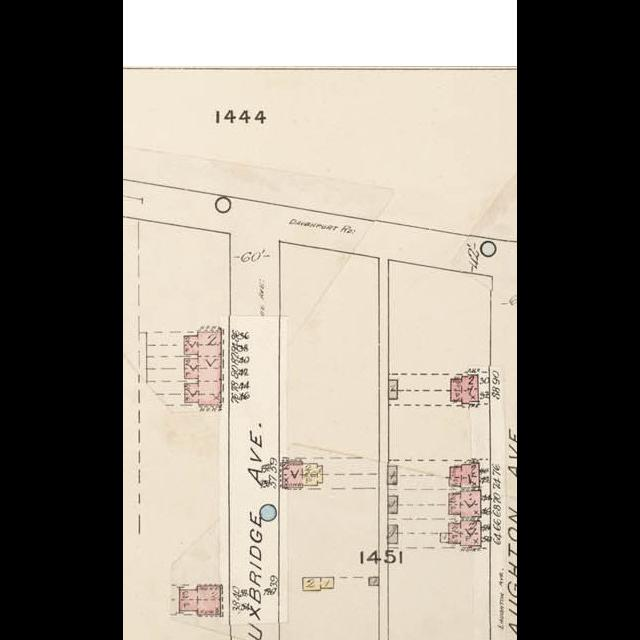building-footprints: (184, 331, 221, 405), (179, 585, 221, 614), (283, 461, 322, 489), (449, 491, 481, 517), (449, 520, 481, 546), (451, 375, 478, 403), (450, 463, 480, 487), (303, 577, 334, 590), (388, 524, 398, 543), (389, 379, 398, 398), (388, 466, 397, 484), (388, 496, 398, 512), (440, 533, 449, 542), (369, 577, 379, 585)
